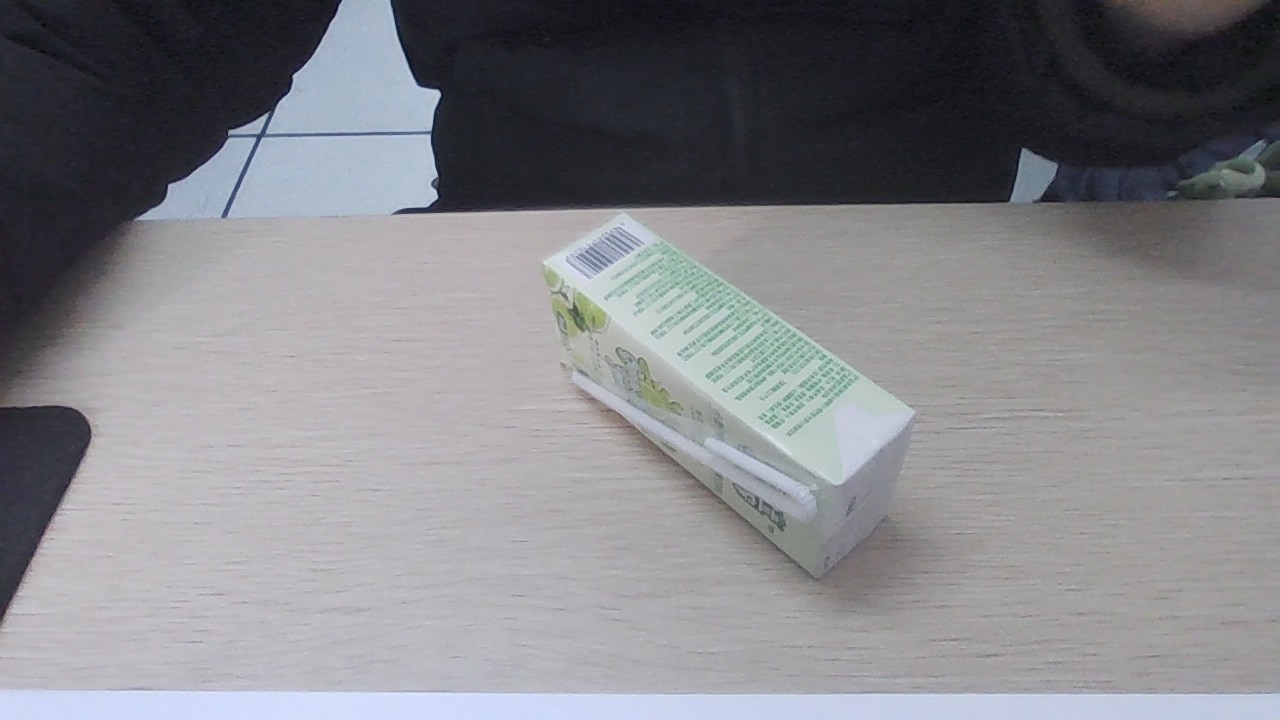CY-drink: (551, 217, 908, 573)
